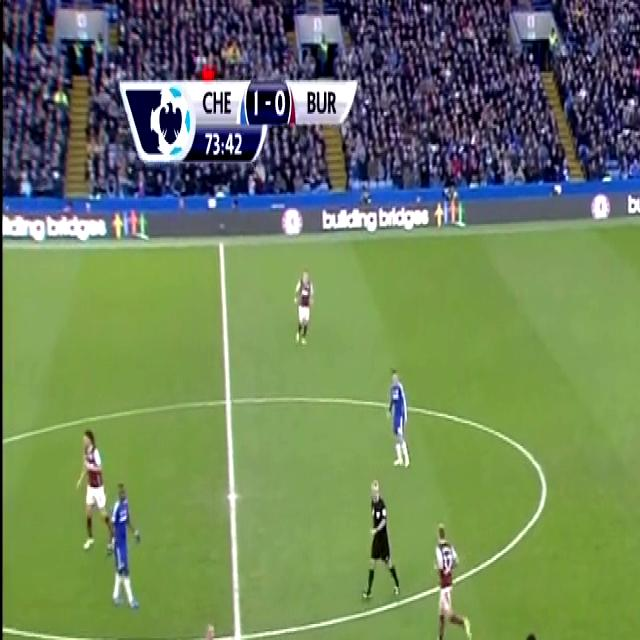referee: (361, 472, 407, 614)
soccer-player: (106, 476, 148, 618), (425, 514, 472, 640), (68, 413, 108, 551), (381, 357, 413, 474), (290, 261, 317, 354), (191, 611, 230, 640), (509, 622, 560, 640)
